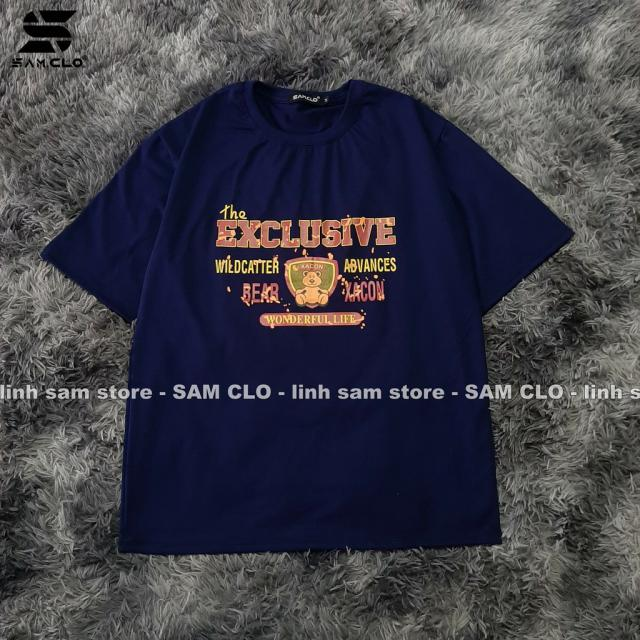Shirt: (35, 76, 578, 562)
